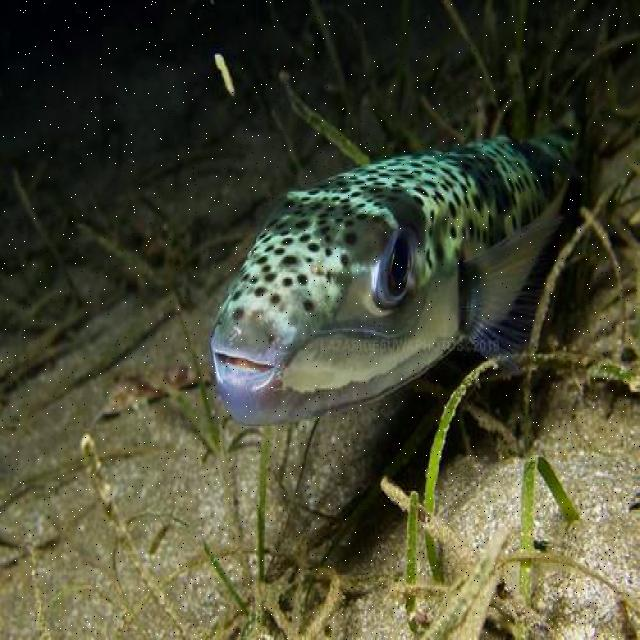Balik: (212, 127, 574, 424)
